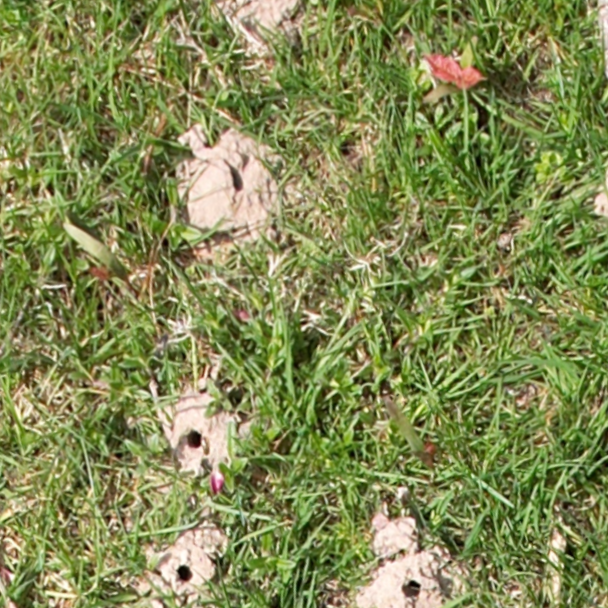nest: (172, 124, 284, 253), (153, 390, 248, 478), (348, 546, 465, 608), (145, 532, 222, 596)
